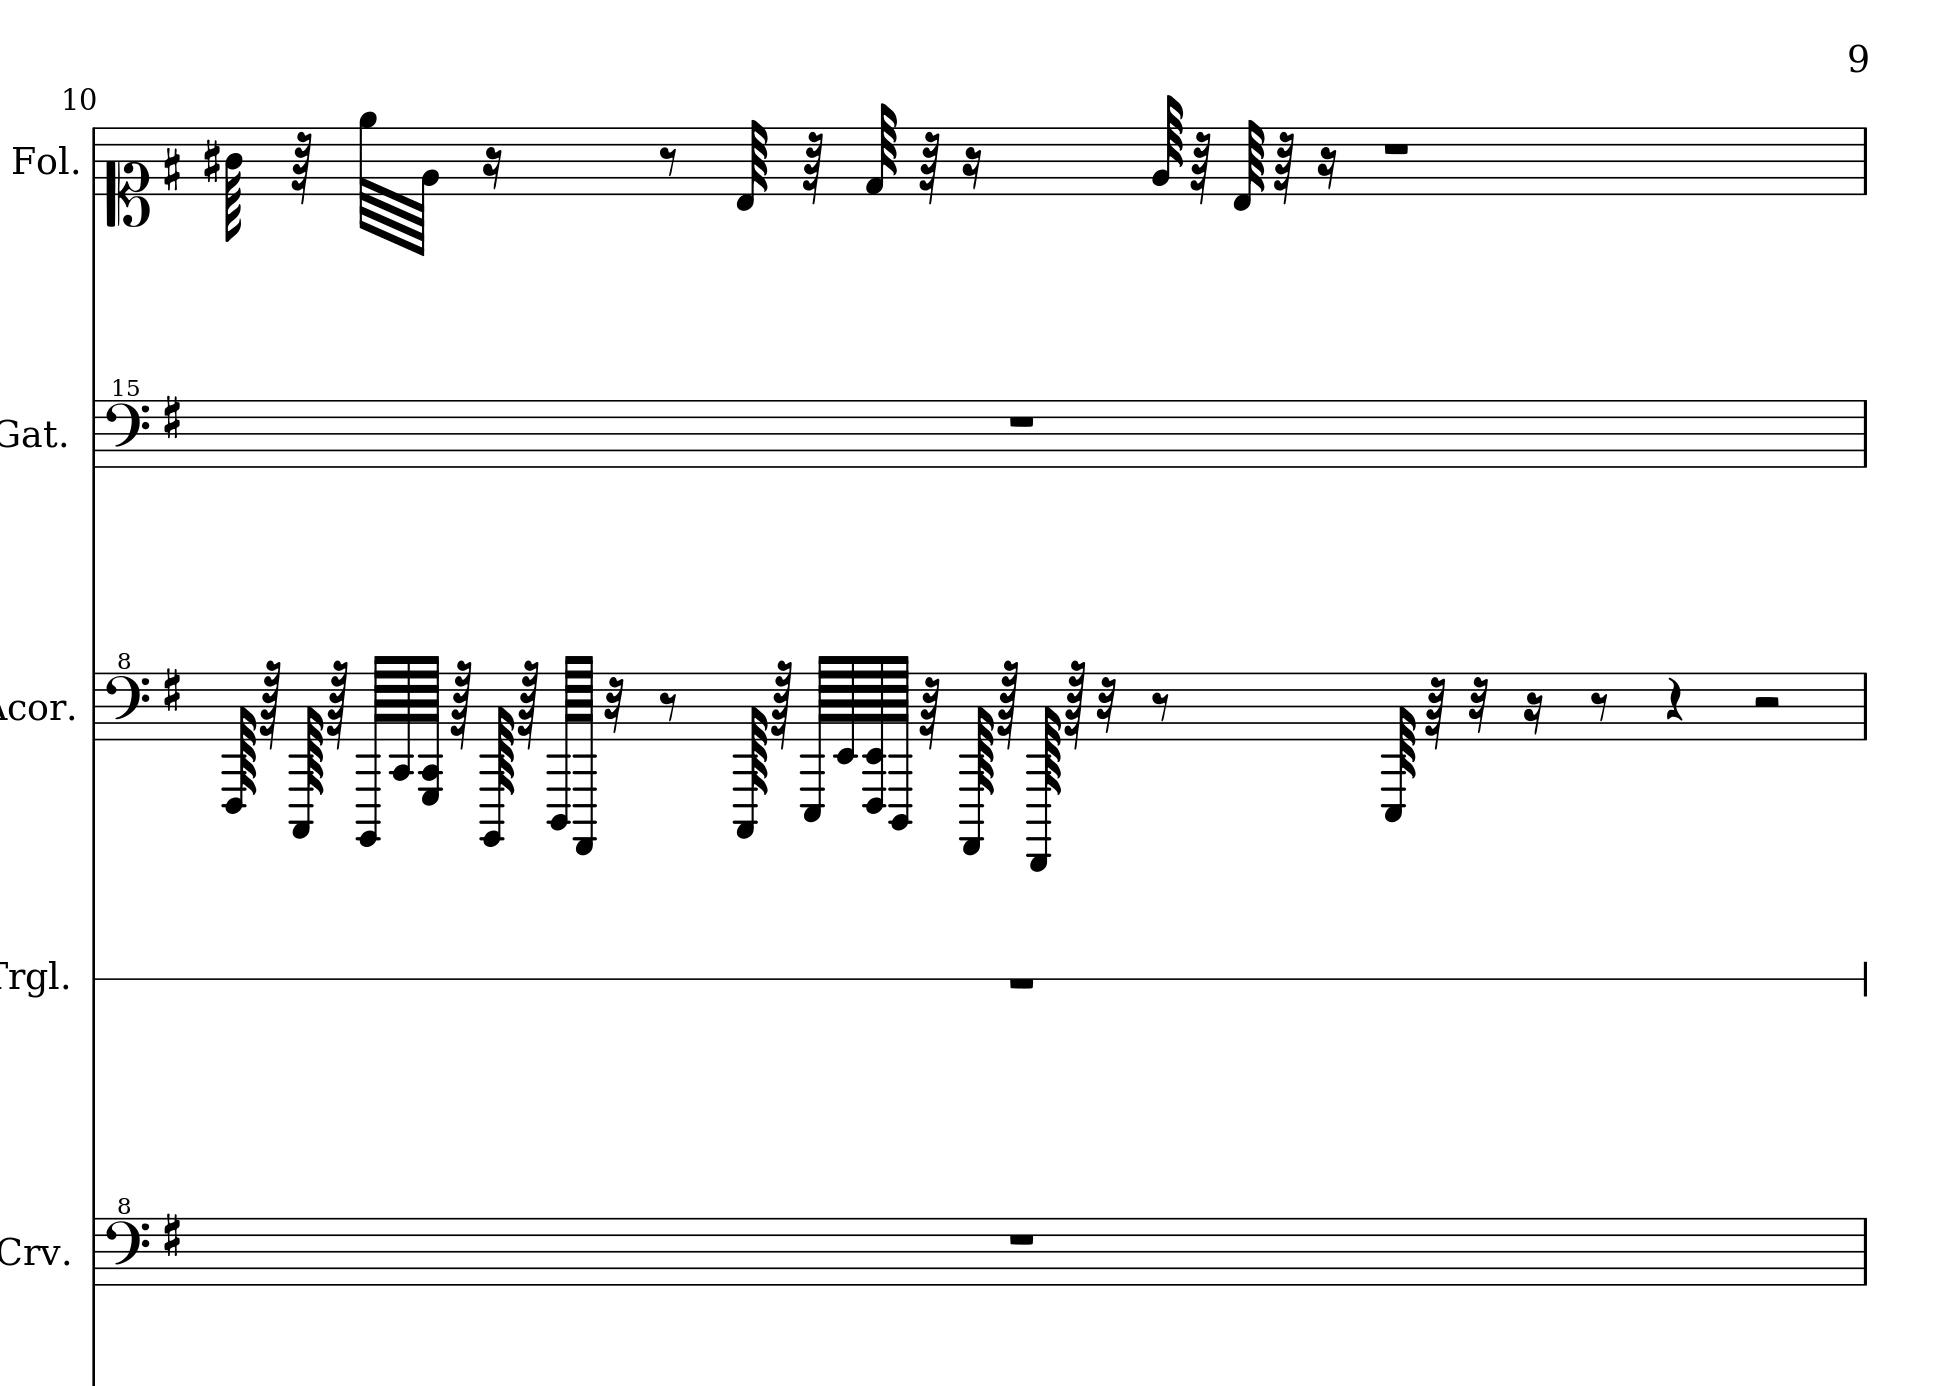0: (78, 82, 97, 114)
1: (61, 82, 76, 114)
128_-1: (736, 118, 772, 208)
128_-2: (834, 655, 862, 763)
128_-4: (388, 655, 415, 781)
128_-8: (220, 670, 258, 814)
128_-9: (799, 652, 834, 823)
64_-1: (1230, 118, 1267, 211)
64_1: (864, 100, 897, 195)
64_2: (409, 123, 442, 256), (1150, 94, 1185, 196)
64_4: (222, 124, 246, 241)
64_9: (357, 109, 382, 235)
9: (1848, 40, 1869, 73)
Fclef: (102, 396, 150, 468)
High_Fclef: (103, 649, 150, 742), (103, 1195, 150, 1287)
Rests1: (1005, 973, 1039, 997), (1005, 1228, 1038, 1249), (1380, 139, 1413, 157), (1005, 412, 1038, 430)
Rests128: (514, 658, 541, 748), (448, 657, 474, 748), (258, 658, 283, 748), (325, 658, 351, 748), (996, 658, 1021, 748), (769, 658, 793, 748), (1063, 658, 1087, 748)
Rests16: (960, 145, 984, 190), (1315, 145, 1338, 190), (1522, 691, 1545, 736), (481, 145, 502, 190)
Rests2: (1752, 693, 1785, 712)
Rests32: (601, 675, 625, 736), (1095, 675, 1119, 736), (1467, 676, 1489, 735)
Rests4: (1663, 675, 1684, 723)
Rests64: (916, 129, 942, 205), (1188, 129, 1213, 205), (916, 673, 942, 748), (801, 129, 825, 205), (1272, 129, 1296, 205), (289, 130, 313, 205), (1423, 673, 1446, 750)
Rests8: (1149, 688, 1171, 724), (657, 688, 679, 723), (1590, 688, 1611, 723), (658, 144, 679, 177)
Sharp: (160, 391, 183, 442), (160, 664, 183, 714), (162, 144, 183, 193), (160, 1210, 181, 1258), (202, 136, 222, 184)
Single_barline: (1857, 400, 1875, 466), (1857, 1216, 1873, 1285), (85, 127, 102, 195), (1857, 672, 1873, 739), (1857, 127, 1873, 193), (87, 673, 102, 739), (87, 1218, 102, 1284), (87, 400, 100, 466)
Soprano_Cclef: (103, 123, 151, 226)
